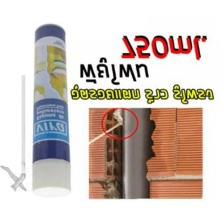aerosol_cans: (26, 20, 74, 204)
